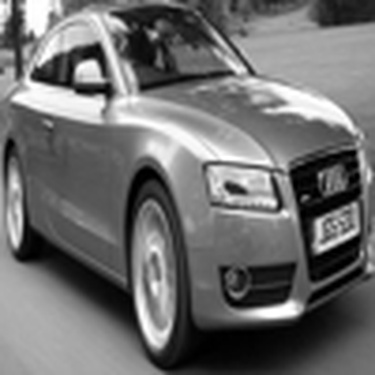car: (4, 6, 371, 371)
